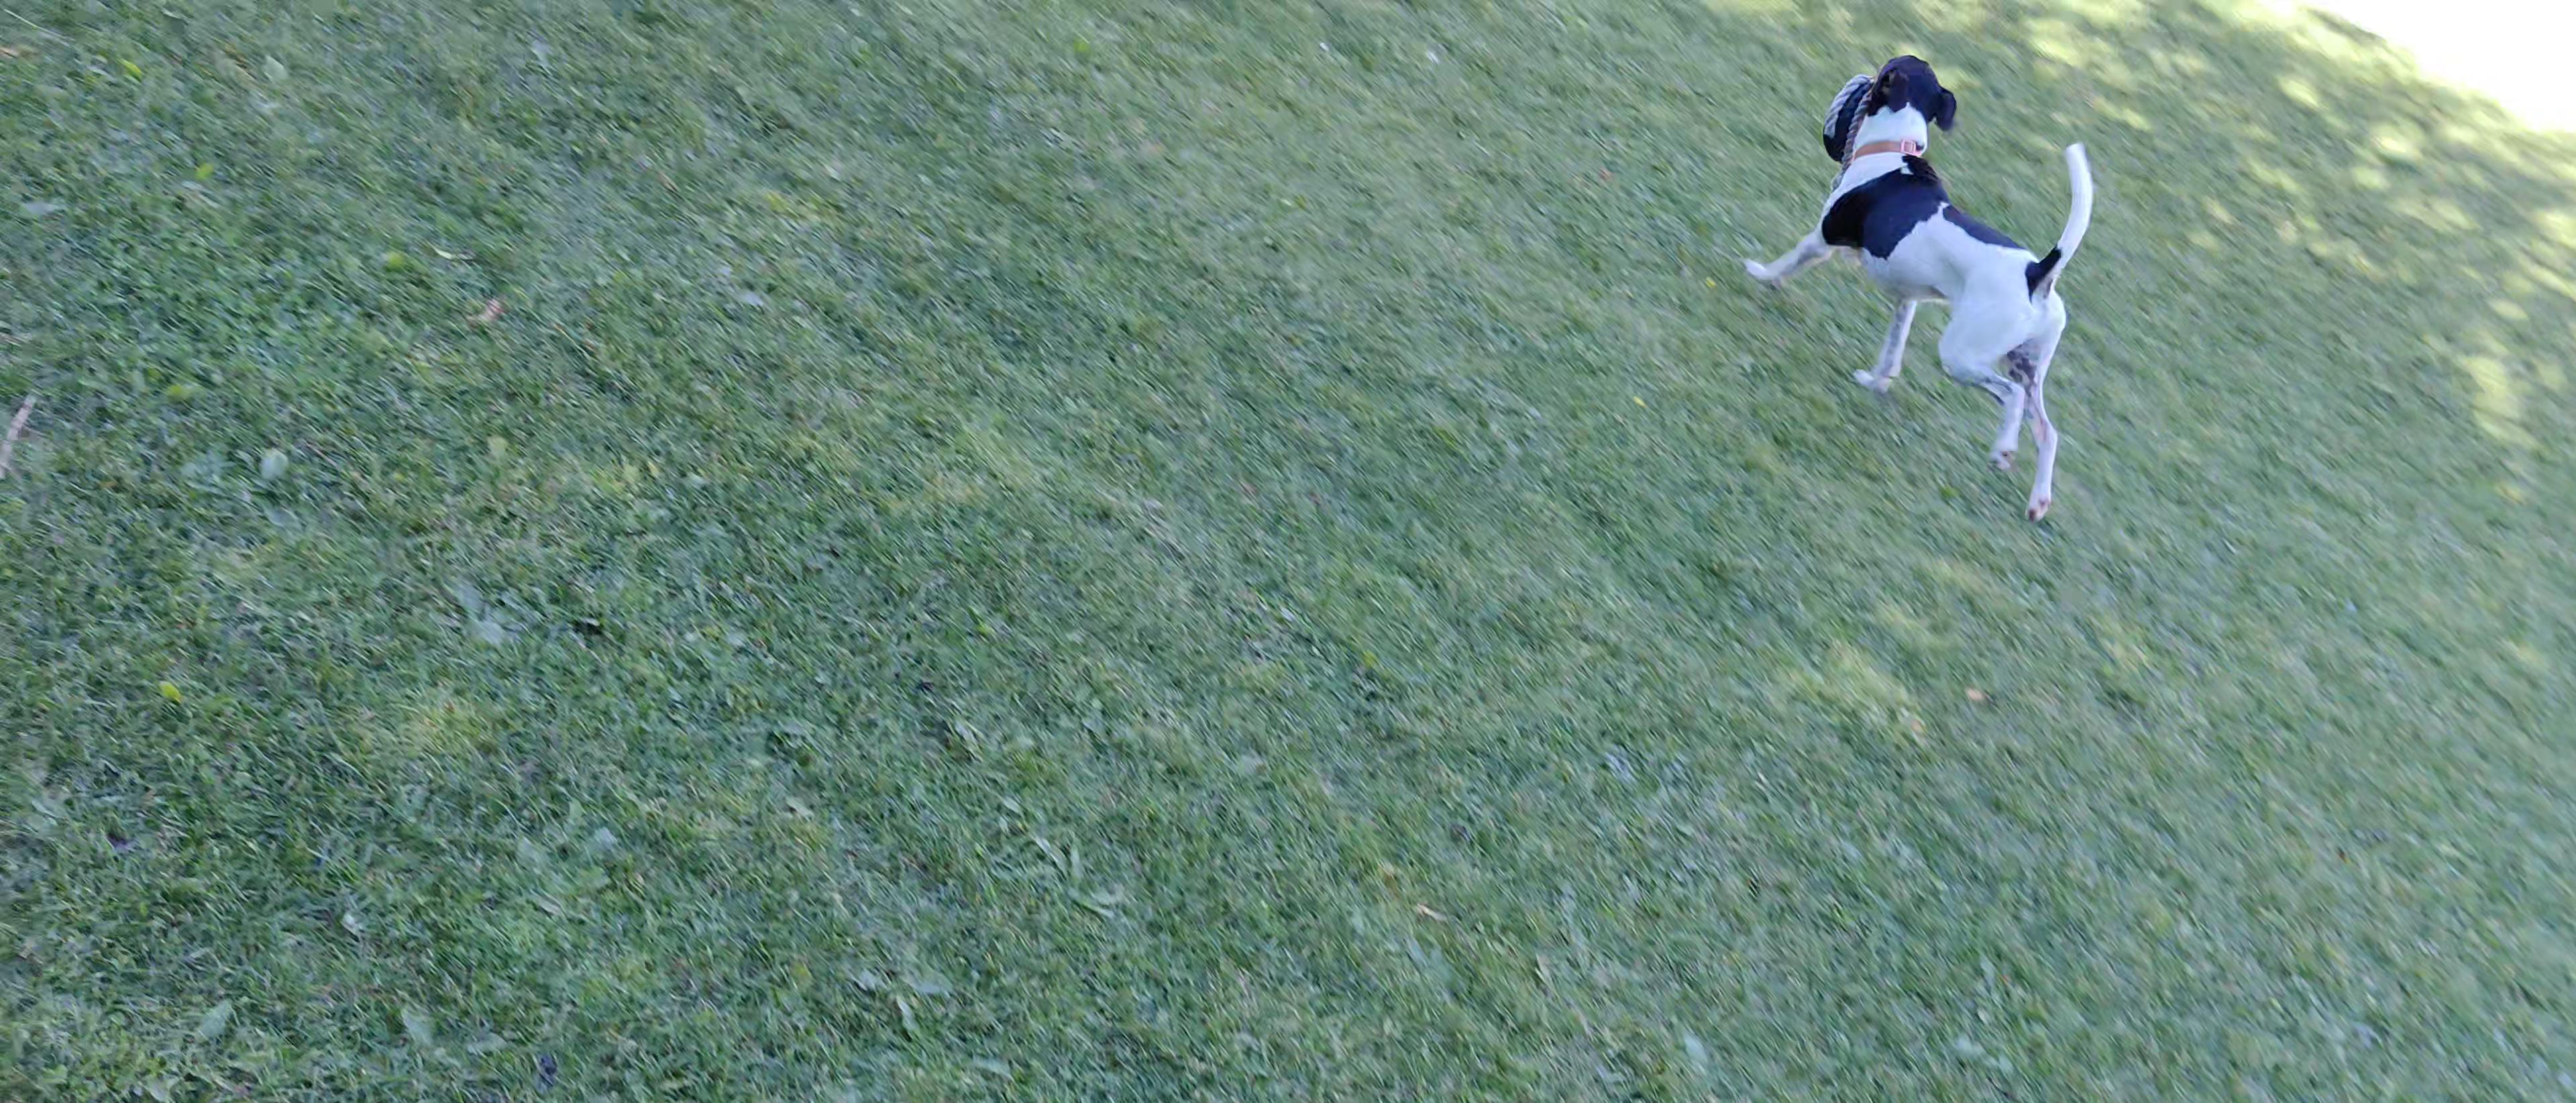Dog: (1732, 51, 2101, 541)
